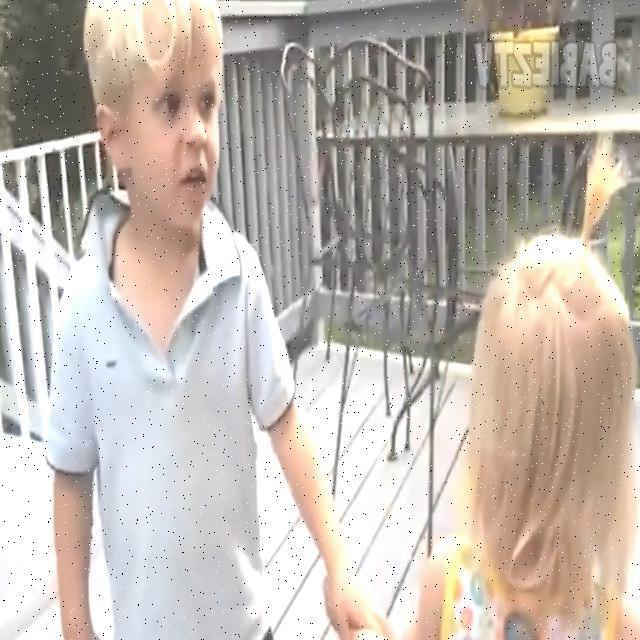child: (43, 0, 392, 640), (336, 235, 640, 640)
